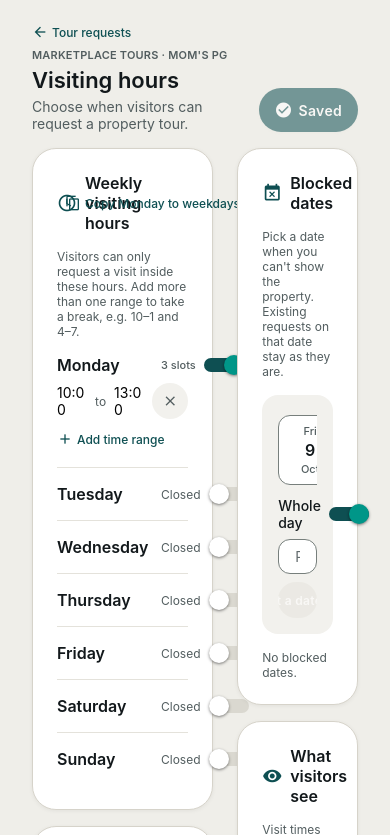
Test: VisitingHoursScreen › adds a second time range to a day and keeps the slot count in step
The width and height of the screenshot is (390, 835).
Expected: the text "Weekly visiting hours" is shown, [85,173,142,233]
Click the button with aria-label "Add a time range on Monday".
click(123, 439)  # box [57,427,188,451]
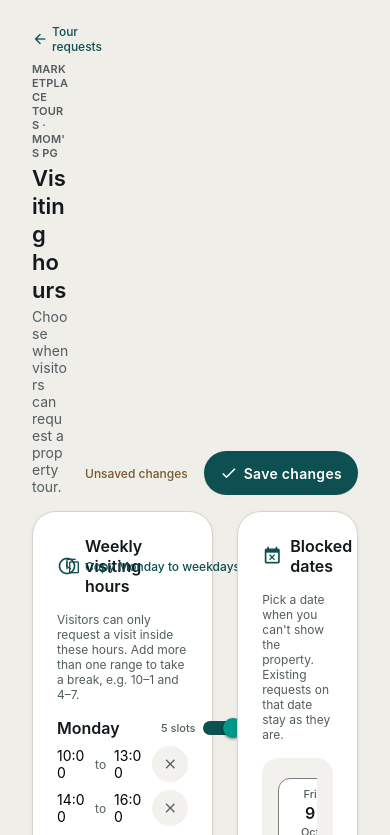
Expected: the text "5 slots" is shown, [161,721,196,735]
Click the button named "Remove Monday time range 2".
click(170, 808)  # box [152,790,188,826]
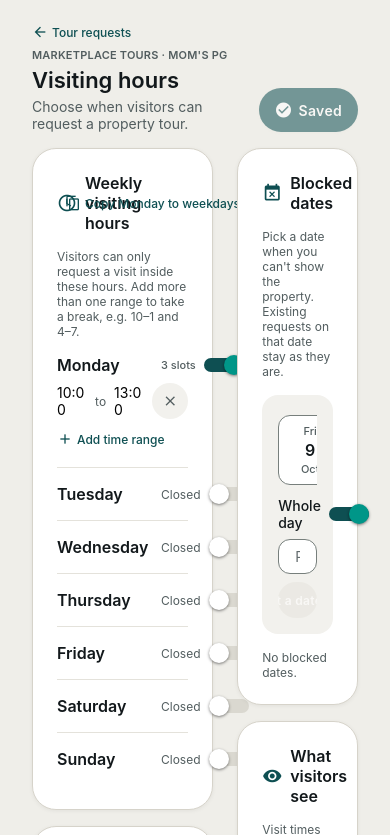
Expected: the text "3 slots" is shown, [161,358,196,372]
